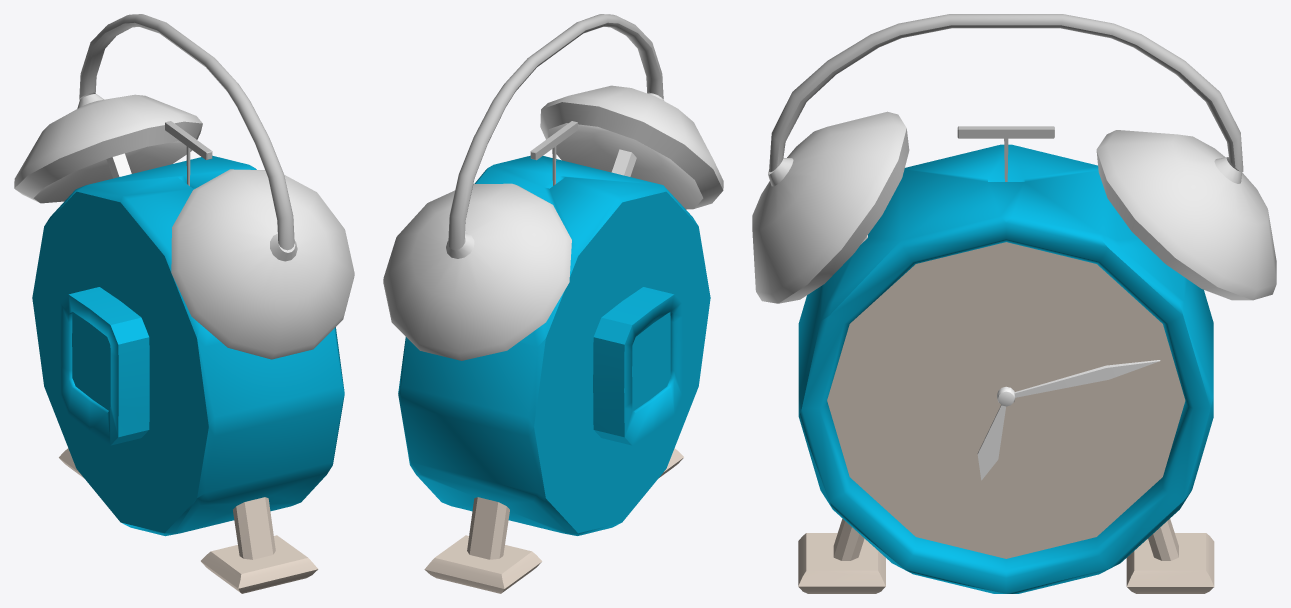
Rendered from Alarm.fbx.
The picture shows the model from 3 angles, left to right: view 1: azimuth 30°, elevation 25°; view 2: azimuth 150°, elevation 25°; view 3: azimuth 270°, elevation 25°; orthographic projection. The views are drawn at different scales.
Visible parts, largest first — view 1: polySurface4, polySurface3, polySurface1; view 2: polySurface4, polySurface1, polySurface3; view 3: polySurface4, polySurface1, polySurface3.
Part boxes in pixels (bbox=[...]): polySurface4: bbox=[32, 14, 344, 593]; polySurface3: bbox=[171, 169, 354, 359]; polySurface1: bbox=[14, 94, 202, 203]; polySurface4: bbox=[398, 14, 710, 593]; polySurface1: bbox=[383, 183, 571, 360]; polySurface3: bbox=[540, 85, 723, 209]; polySurface4: bbox=[769, 14, 1243, 593]; polySurface1: bbox=[1096, 130, 1276, 300]; polySurface3: bbox=[752, 111, 909, 303].
Bounding box in the file's own units: 0.1256 × 0.3156 × 0.2679.
